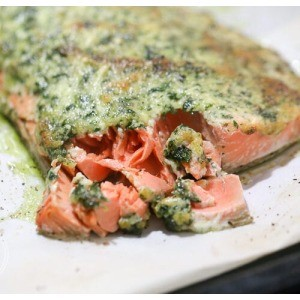salmon_brain food: (28, 33, 259, 243)
